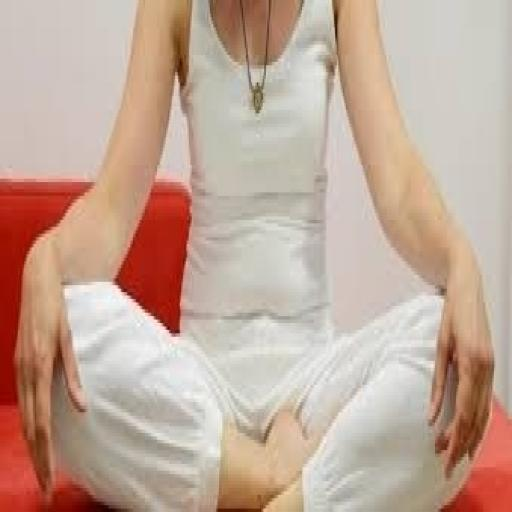sitting: (12, 0, 495, 509)
